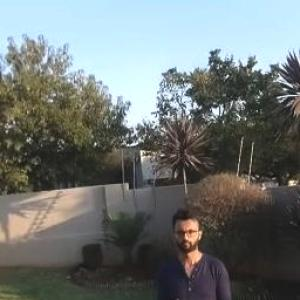follow: (152, 204, 237, 299)
